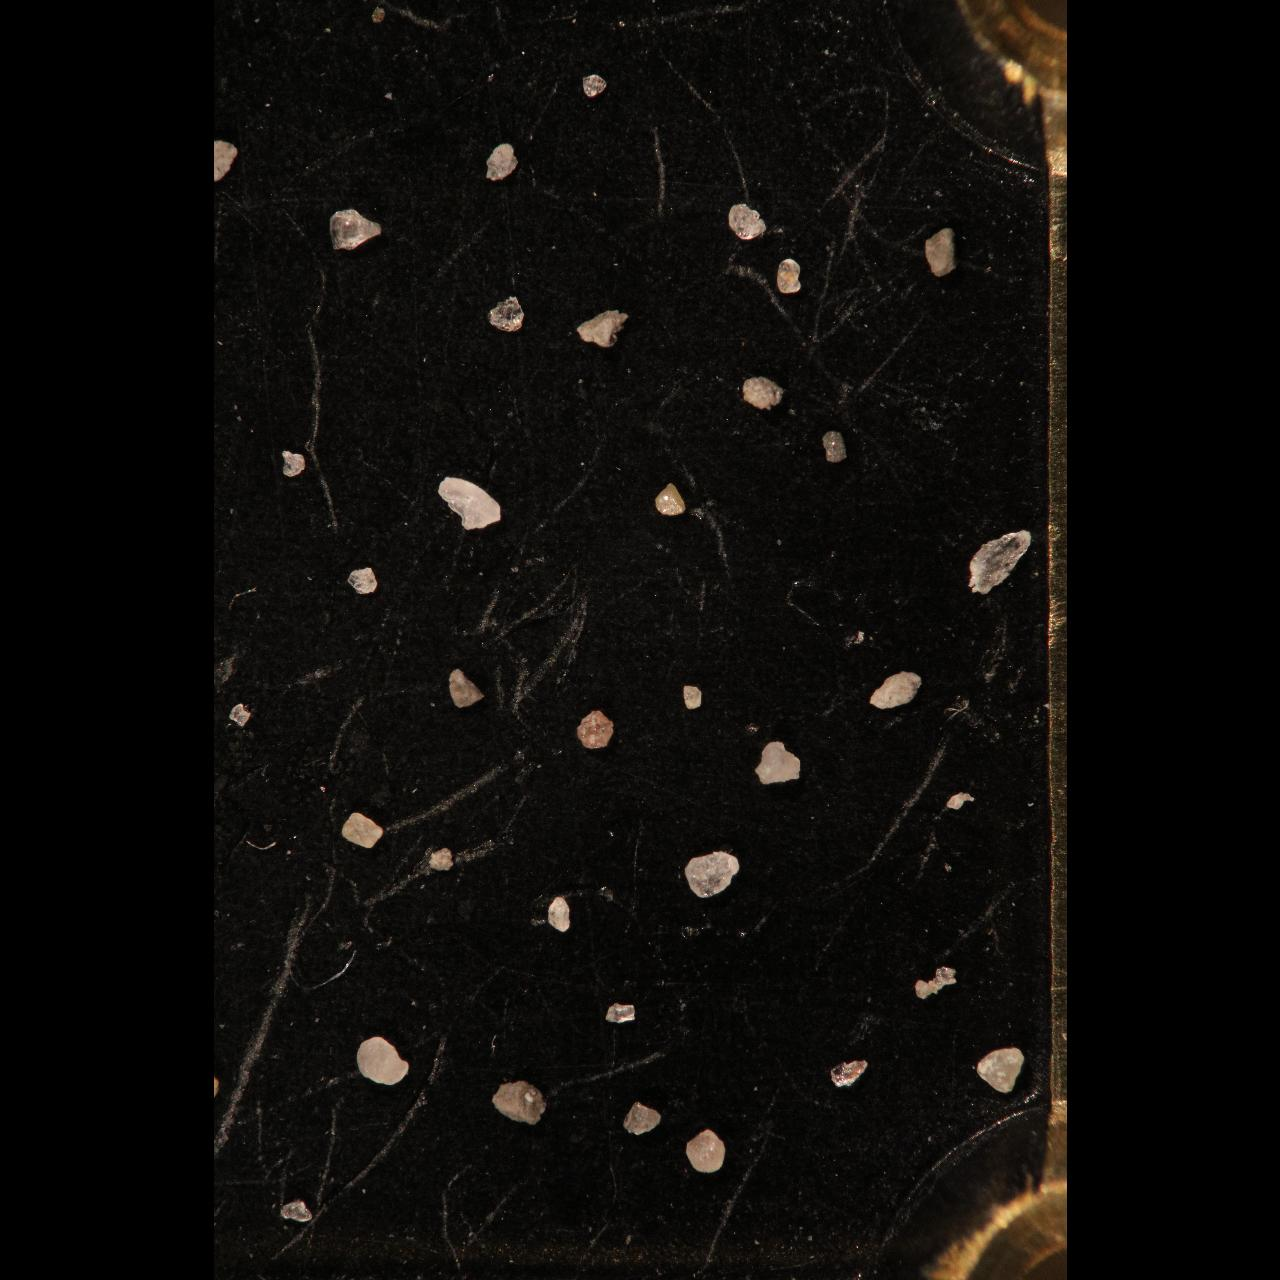Sediment: (967, 527, 1032, 595), (436, 475, 501, 530), (685, 849, 742, 901), (354, 1037, 409, 1087), (492, 1082, 550, 1126), (975, 1046, 1024, 1096), (869, 668, 921, 714), (329, 207, 383, 251), (574, 306, 628, 349), (754, 738, 802, 785), (686, 1125, 727, 1175), (339, 810, 383, 851), (740, 373, 784, 411), (922, 225, 955, 277), (912, 965, 958, 1001), (486, 293, 525, 335), (447, 666, 485, 708), (576, 709, 614, 751), (726, 204, 767, 243), (620, 1098, 660, 1136), (485, 142, 519, 183), (830, 1057, 869, 1089), (653, 481, 685, 517), (776, 257, 803, 295), (346, 564, 379, 595), (213, 139, 237, 183), (546, 896, 572, 934), (822, 429, 849, 463), (279, 1199, 313, 1225), (279, 448, 305, 478), (427, 845, 454, 873), (580, 72, 606, 98), (605, 1003, 638, 1024), (945, 790, 975, 810), (229, 701, 250, 727), (681, 683, 701, 710), (369, 5, 387, 25)
